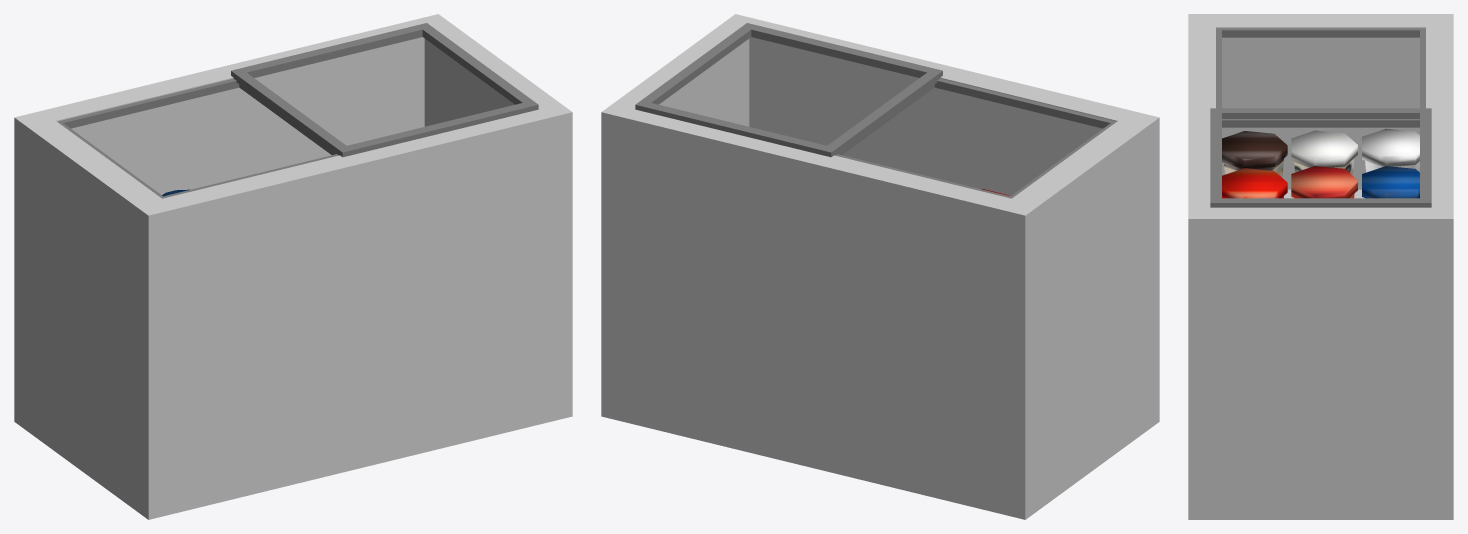
Rendered from freezer.glb.
3 renders of one model, left to right at view 1: azimuth 30°, elevation 25°; view 2: azimuth 150°, elevation 25°; view 3: azimuth 270°, elevation 25°, orthographic.
Visible parts, largest first — view 1: freezer, Cube.737, Cube.738; view 2: freezer, Cube.737, Cube.738; view 3: freezer, Cube.737, Cube.738, Helado.008, Helado.005, Helado, Helado.006, Helado.007, Helado.004.
Part boxes in pixels (left/top/right/bottom): freezer: left=14, top=14, right=572, bottom=519; Cube.737: left=231, top=23, right=538, bottom=157; Cube.738: left=57, top=78, right=338, bottom=198; freezer: left=601, top=14, right=1159, bottom=519; Cube.737: left=635, top=23, right=942, bottom=157; Cube.738: left=835, top=78, right=1116, bottom=198; freezer: left=1188, top=14, right=1453, bottom=519; Cube.737: left=1210, top=108, right=1431, bottom=207; Cube.738: left=1216, top=28, right=1425, bottom=127; Helado.008: left=1222, top=131, right=1287, bottom=177; Helado.005: left=1291, top=130, right=1357, bottom=175; Helado: left=1362, top=128, right=1419, bottom=172; Helado.006: left=1291, top=166, right=1357, bottom=198; Helado.007: left=1222, top=168, right=1287, bottom=198; Helado.004: left=1362, top=166, right=1419, bottom=198.
Bounding box in the file's own units: 8.48 × 5.9 × 4.64.
3 materials, 1 textured.
